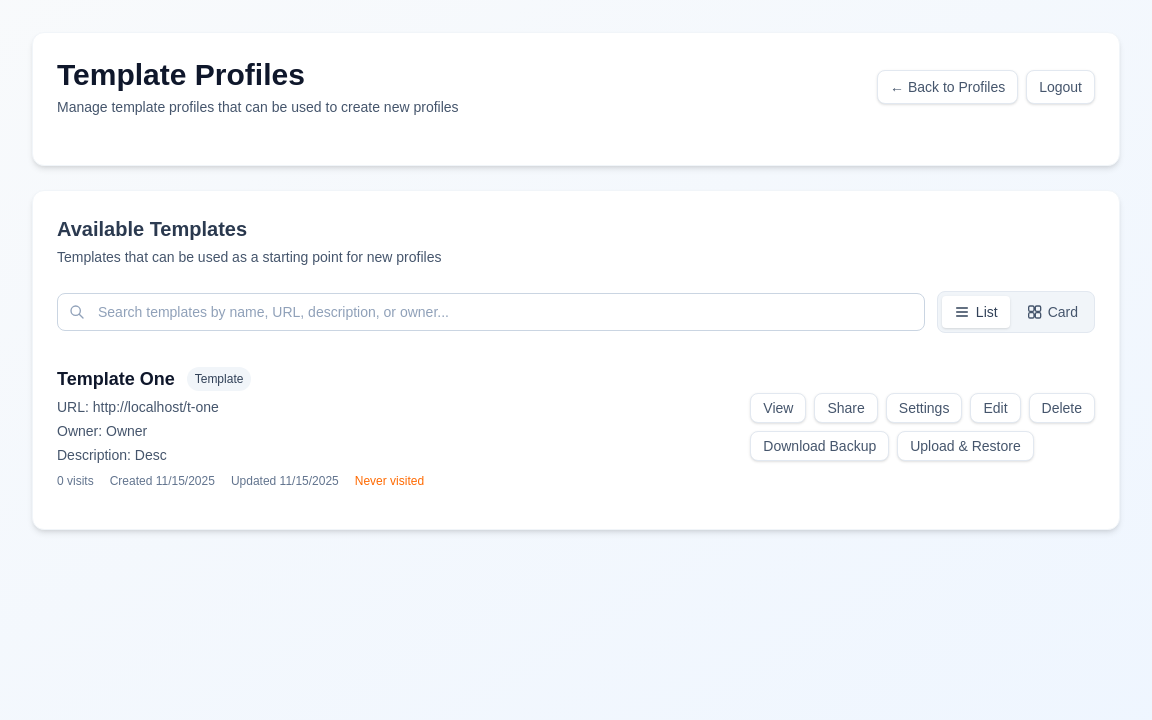
Test: renders templates list and shows never visited marker for zero visits
Expected: the heading "Template One" is shown, [57, 365, 175, 393]
Expected: the text "Never visited" is shown, [355, 473, 424, 489]
Type "no-match-for-this" into the field with placeholder "Search templates by name, URL, description, or owner...". click: (491, 312)
box: [57, 293, 925, 331]
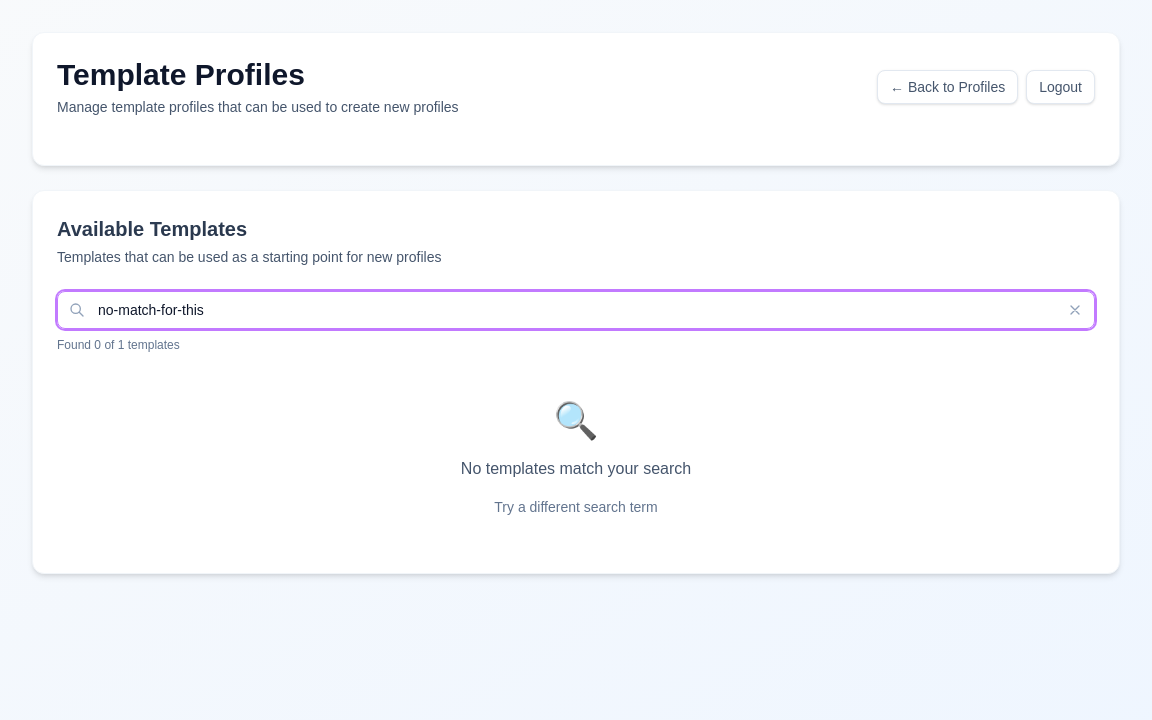
Result: the text "No templates match your search" is shown at [461, 460, 691, 477]
